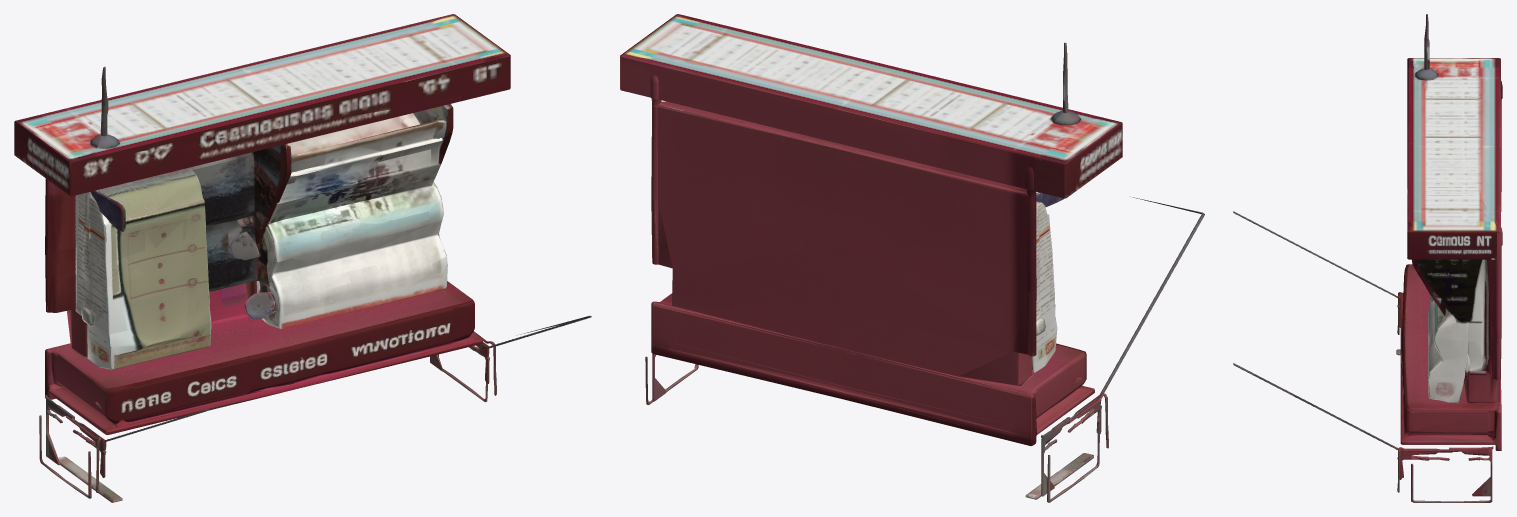
The model's file is information_kiosk.glb.
3 renders of one model, left to right at view 1: azimuth 30°, elevation 25°; view 2: azimuth 150°, elevation 25°; view 3: azimuth 270°, elevation 25°, orthographic. The views are drawn at different scales.
Bounding box in the file's own units: 1.91 × 1.74 × 1.24.
1 material, 1 textured.
